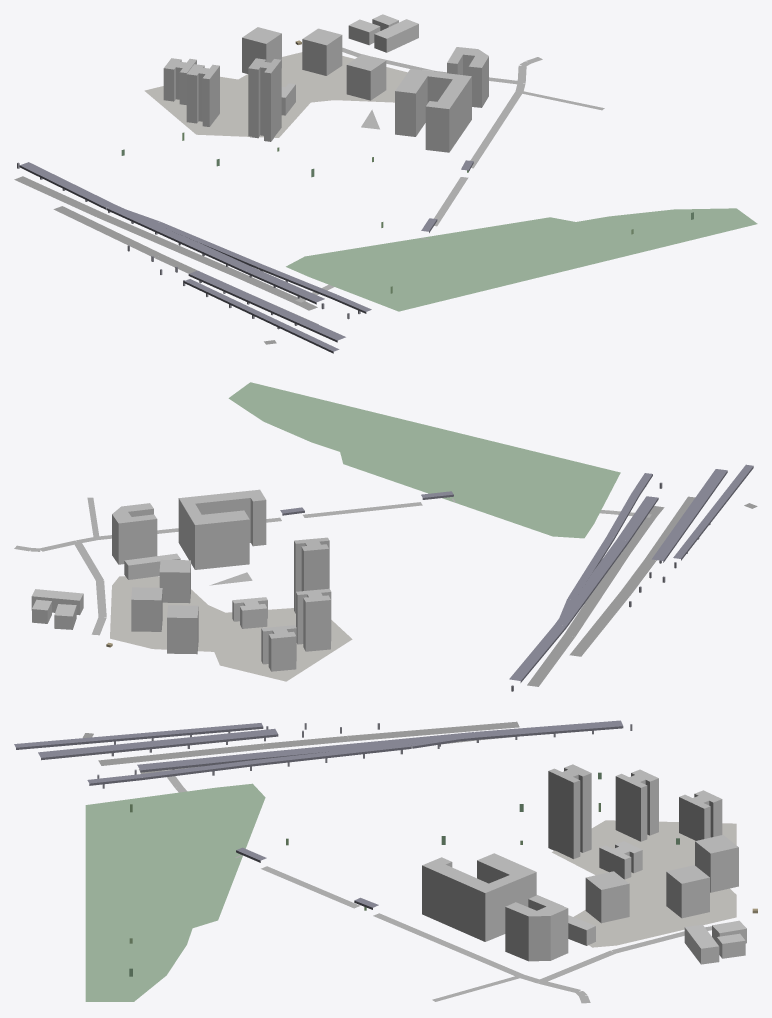
3 renders of one model, top to bottom at view 1: azimuth 30°, elevation 25°; view 2: azimuth 150°, elevation 25°; view 3: azimuth 270°, elevation 25°, orthographic. The views are drawn at different scales.
Size of the model in its own units: 517 by 66.11 by 572.
